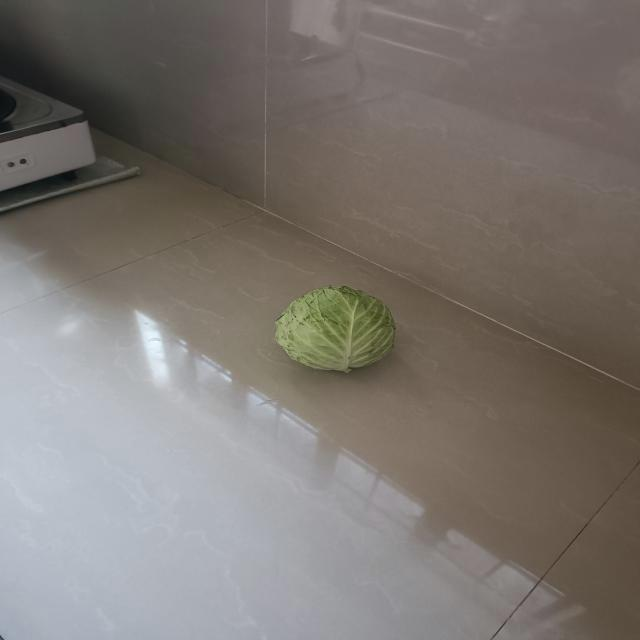cabbage: (275, 284, 395, 372)
